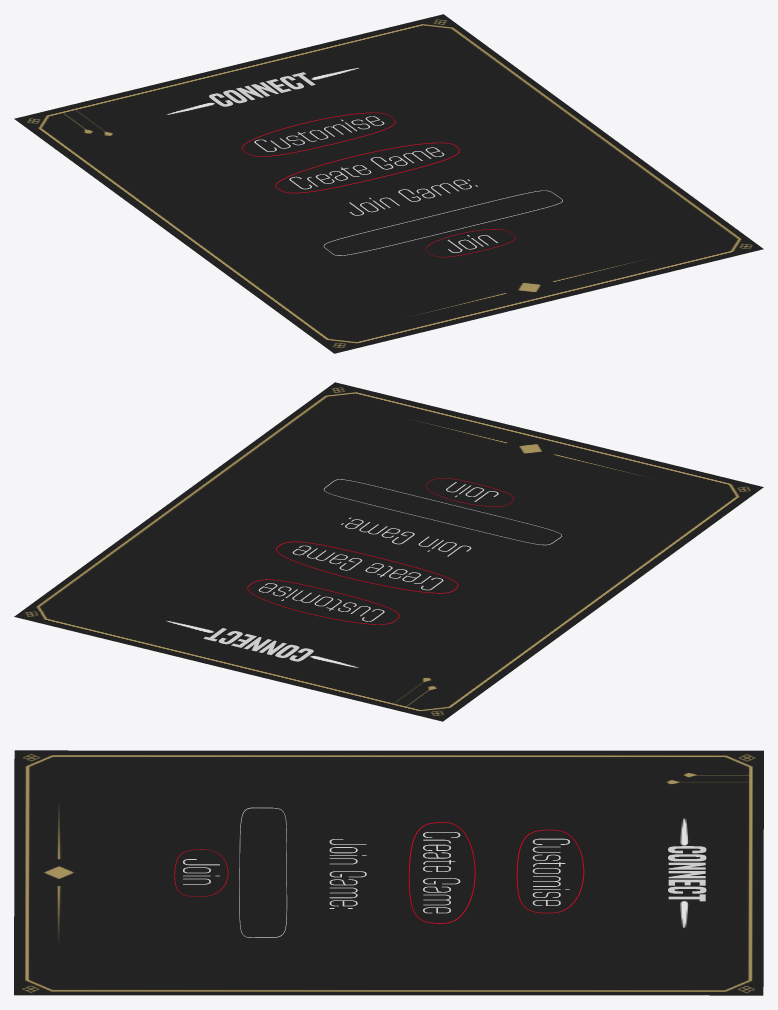
Rendered from Rulebook Connect Page.fbx.
3 renders of one model, top to bottom at view 1: azimuth 30°, elevation 25°; view 2: azimuth 150°, elevation 25°; view 3: azimuth 270°, elevation 25°, orthographic. The views are drawn at different scales.
Parts seen in each view (by area): view 1: RulesPageMultiplayerMenu.001, Connect Text, Create Game Text; view 2: RulesPageMultiplayerMenu.001, Connect Text, Create Game Text; view 3: RulesPageMultiplayerMenu.001, Connect Text, Create Game Text, Join Game Text, Customise Text, Create Game Button Outline.
Part boxes in pixels (x1=…): RulesPageMultiplayerMenu.001: x1=14, y1=14, x2=763, y2=353; Connect Text: x1=209, y1=72, x2=315, y2=106; Create Game Text: x1=289, y1=147, x2=444, y2=189; RulesPageMultiplayerMenu.001: x1=14, y1=382, x2=763, y2=721; Connect Text: x1=203, y1=628, x2=313, y2=661; Create Game Text: x1=292, y1=545, x2=443, y2=590; RulesPageMultiplayerMenu.001: x1=14, y1=750, x2=763, y2=995; Connect Text: x1=668, y1=846, x2=706, y2=901; Create Game Text: x1=423, y1=832, x2=460, y2=913; Join Game Text: x1=329, y1=839, x2=366, y2=908; Customise Text: x1=532, y1=838, x2=569, y2=905; Create Game Button Outline: x1=408, y1=822, x2=475, y2=923.
Bounding box in the file's own units: 22.03 × 0.0538 × 28.49.
3 materials, 1 textured.
